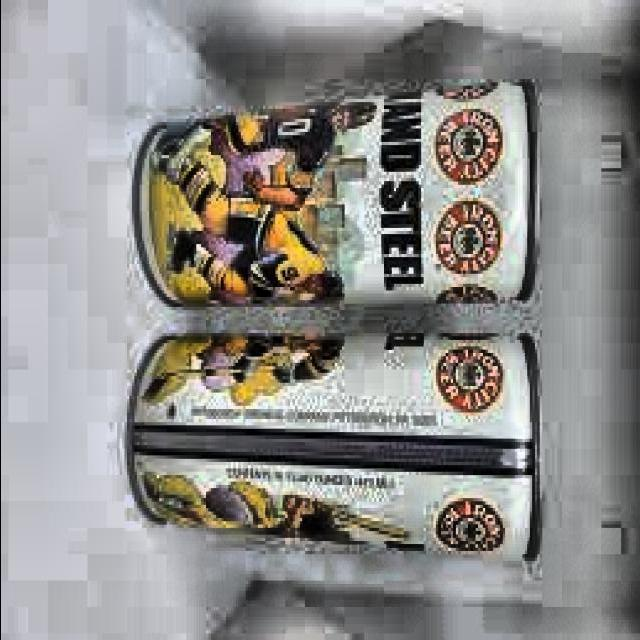Aluminum Can: (115, 324, 553, 572), (123, 75, 546, 322)
